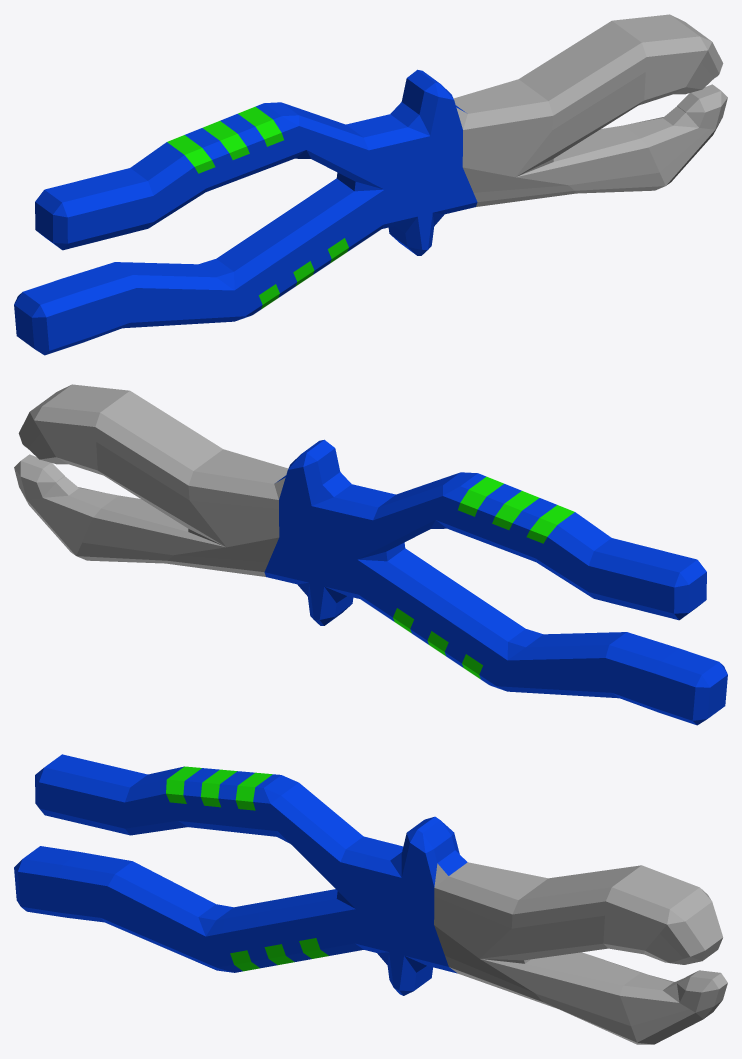
The model's file is ploskogybzzu.fbx.
The picture shows the model from 3 angles, top to bottom: view 1: azimuth 30°, elevation 25°; view 2: azimuth 150°, elevation 25°; view 3: azimuth 330°, elevation 25°; orthographic projection.
Visible parts, largest first — view 1: Cube.002; view 2: Cube.002; view 3: Cube.002.
Boxes of the visible parts, <box> form: Cube.002: <box>14,14,727,355</box>; Cube.002: <box>14,384,727,725</box>; Cube.002: <box>14,754,727,1044</box>.
Bounding box in the file's own units: 82.83 × 21.91 × 8.36.
